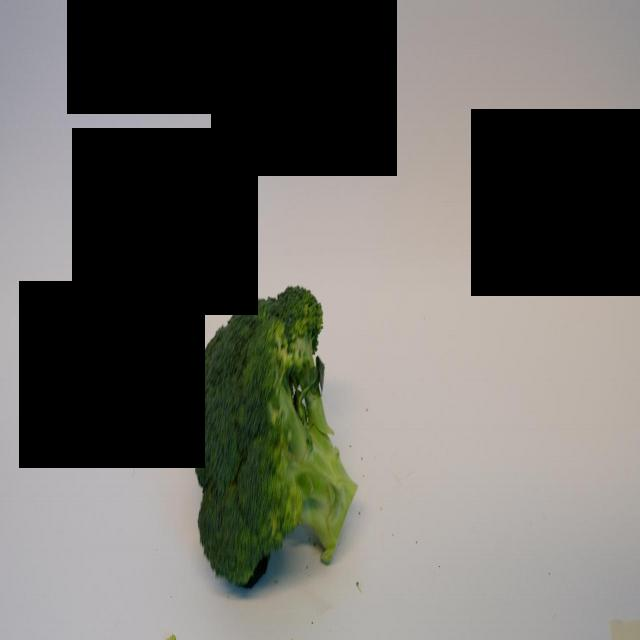broccoli: (188, 278, 360, 595)
